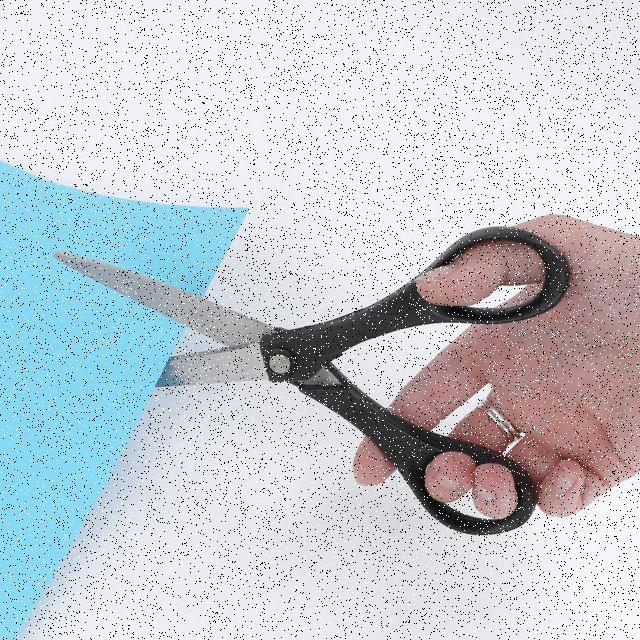scissors: (49, 225, 579, 541)
